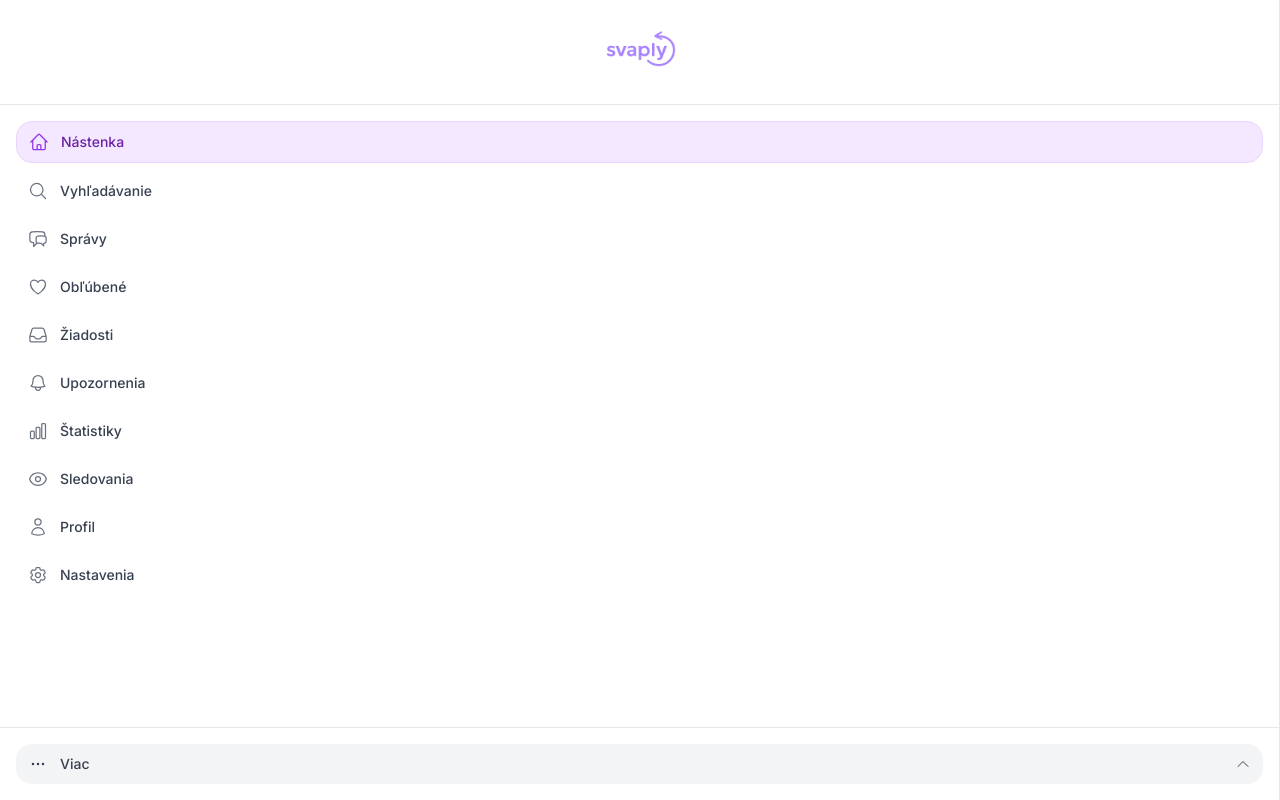
Test: Sidebar › shows logout inside the desktop More menu
The width and height of the screenshot is (1280, 800).
Expected: the text "Odhlásiť sa" is not shown
Step 1. Click the button "Viac" → (38, 764), box [16,744,1263,784]
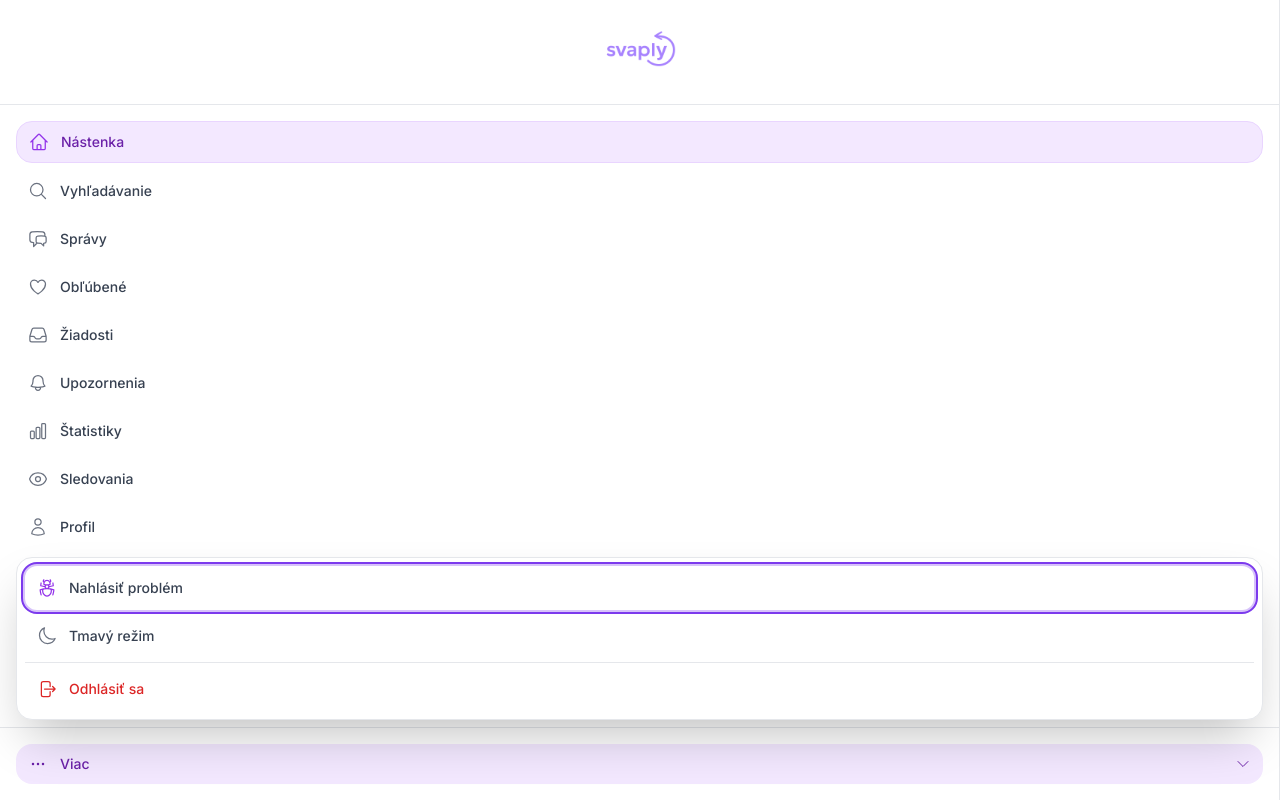
Now the button "Odhlásiť sa" is shown, box [25,667,1254,711]
